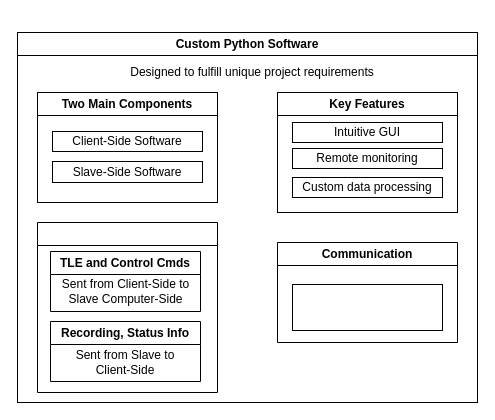
The diagram is 495 pixels wide and 420 high, and some of its shapes have lost their labels. The centre of each missing label's shape, as x and y in pixels:
"Bluetooth for seamless interaction between components" goes at point 367,307.
"Communication Data" goes at point 127,307.
